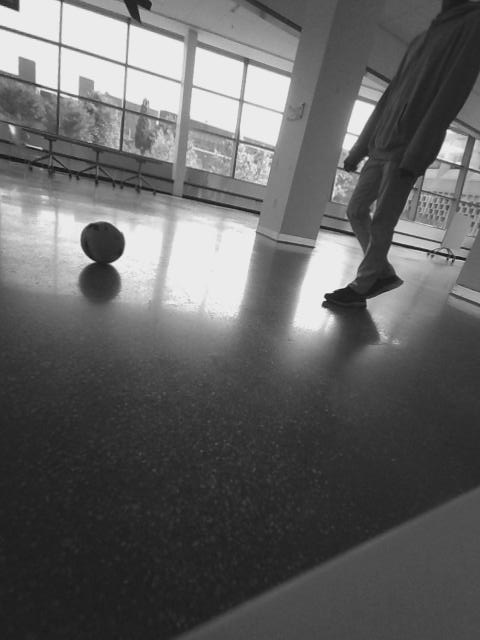ball: (19, 227, 100, 306)
